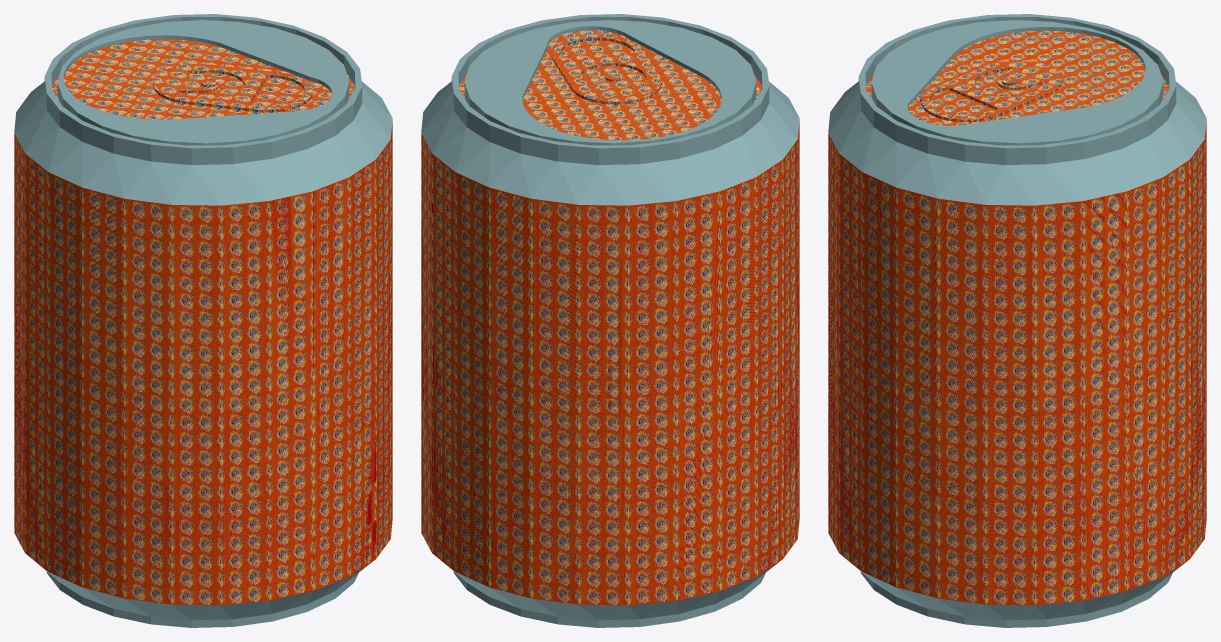
3 renders of one model, left to right at view 1: azimuth 30°, elevation 25°; view 2: azimuth 150°, elevation 25°; view 3: azimuth 270°, elevation 25°, orthographic.
Parts seen in each view (by area): view 1: mesh1_mesh1-geometry, mesh2_mesh2-geometry; view 2: mesh1_mesh1-geometry, mesh2_mesh2-geometry; view 3: mesh1_mesh1-geometry, mesh2_mesh2-geometry.
Part boxes in pixels (x1,y1,x2,y2): mesh1_mesh1-geometry: (14,14,392,627); mesh2_mesh2-geometry: (153,64,312,112); mesh1_mesh1-geometry: (421,14,799,627); mesh2_mesh2-geometry: (552,34,660,104); mesh1_mesh1-geometry: (828,14,1206,627); mesh2_mesh2-geometry: (919,60,1062,122).
Bounding box in the file's own units: 0.502 × 0.7042 × 0.502.
